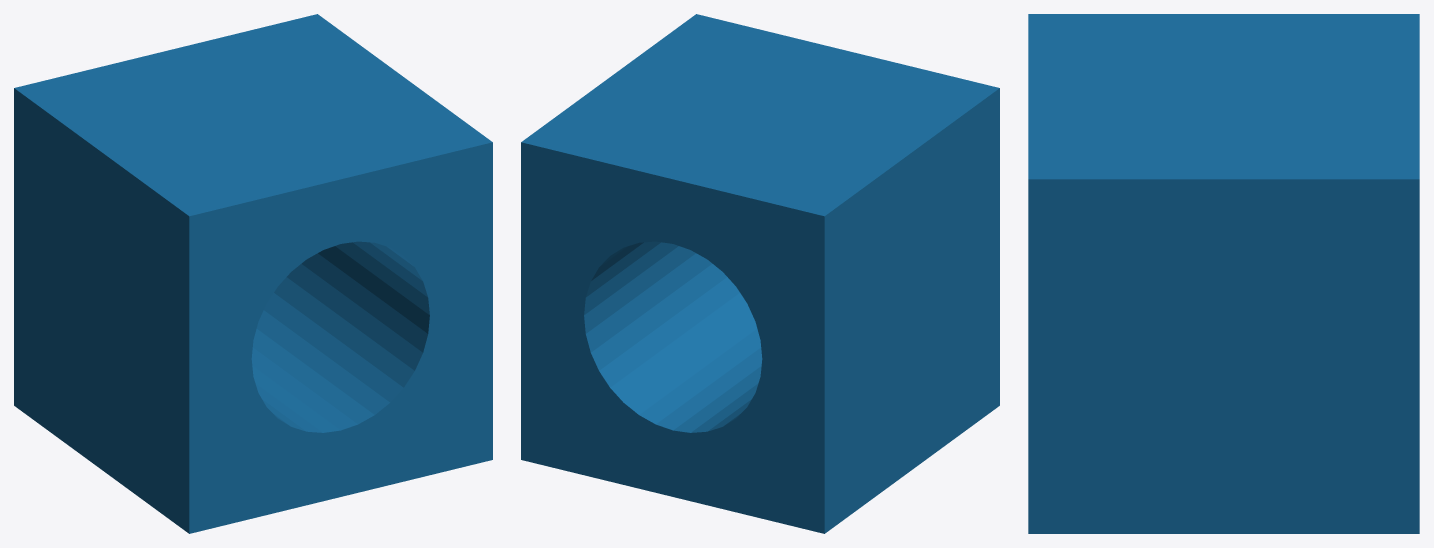
File: Kubus Bolong  B.fbx
The picture shows the model from 3 angles, left to right: view 1: azimuth 30°, elevation 25°; view 2: azimuth 150°, elevation 25°; view 3: azimuth 270°, elevation 25°; orthographic projection. The views are drawn at different scales.
Parts seen in each view (by area): view 1: Cube.001; view 2: Cube.001; view 3: Cube.001.
Boxes of the visible parts, x1=… form: Cube.001: x1=14, y1=14, x2=492, y2=533; Cube.001: x1=521, y1=14, x2=999, y2=533; Cube.001: x1=1028, y1=14, x2=1419, y2=533.
Size of the model in its own units: 200 by 200 by 200.
